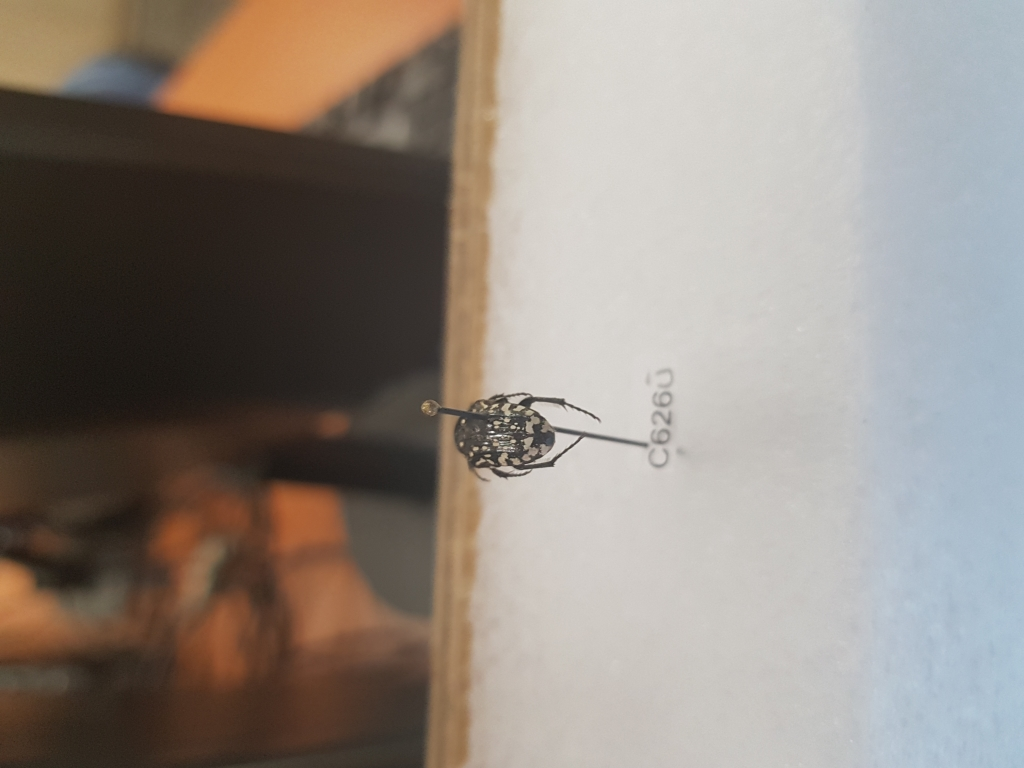Oxythyrea_funesta: (448, 388, 609, 484)
